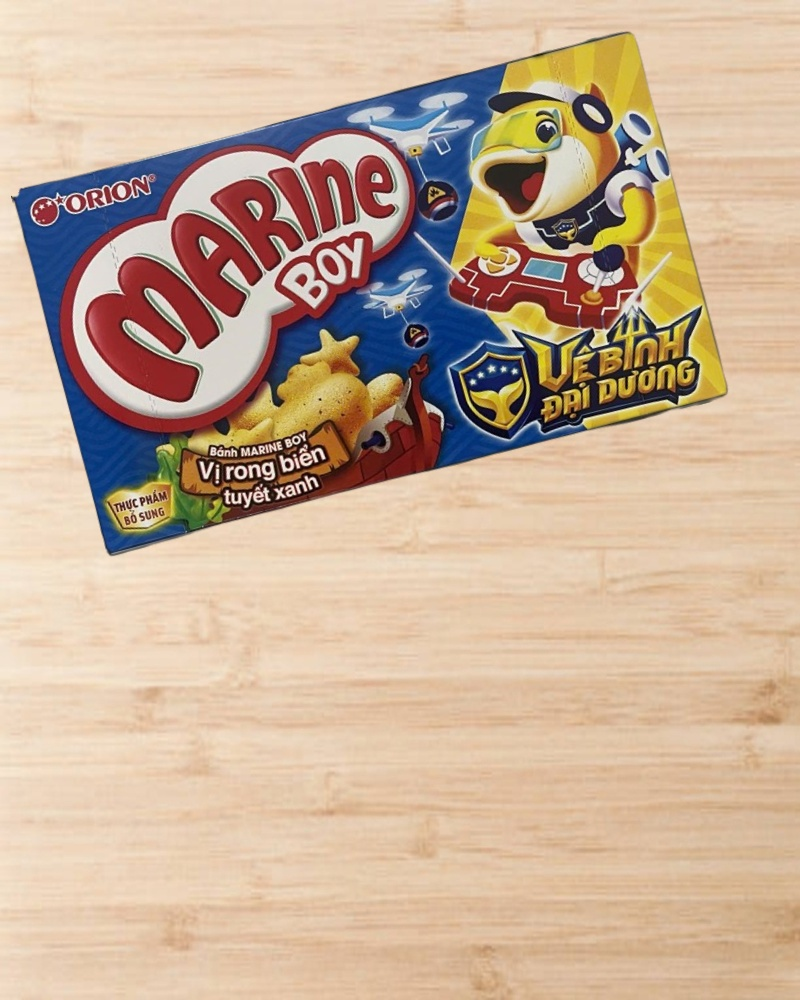Marine: (13, 25, 733, 561)
